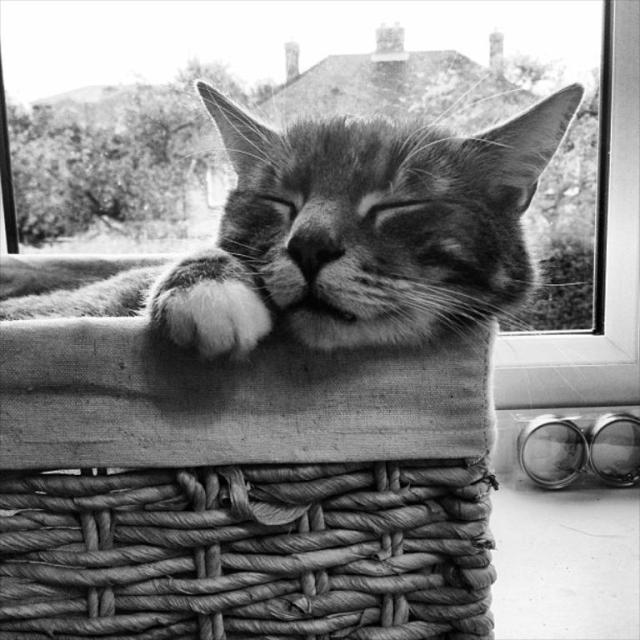Cat: (0, 82, 599, 414)
